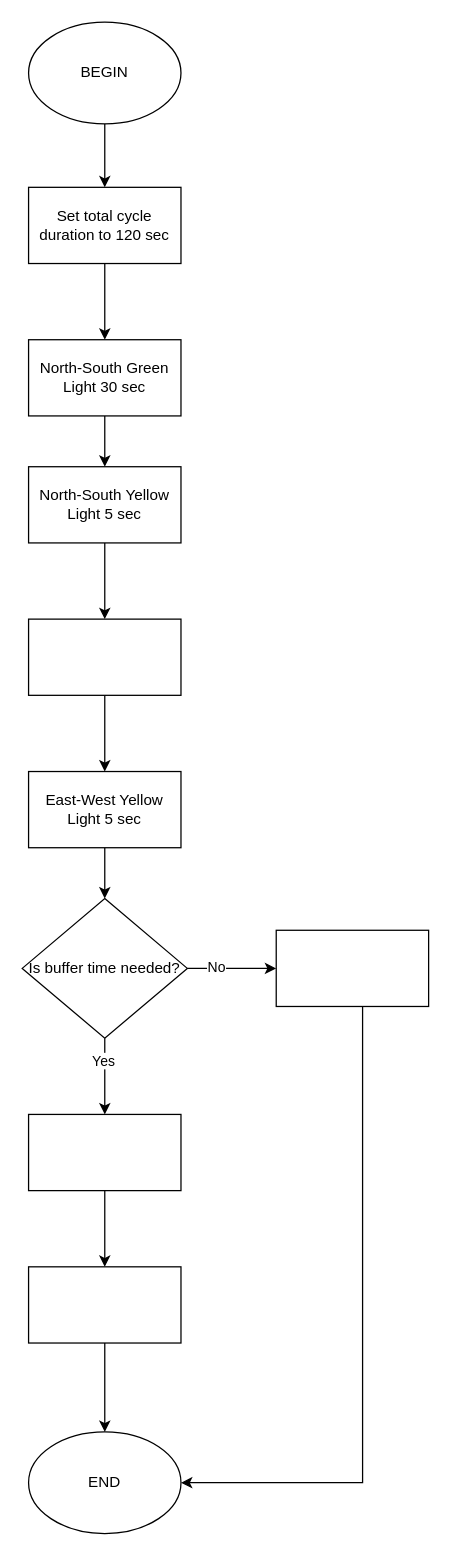
The diagram is 451 pixels wide and 1556 high, and some of its shapes have lost their labels. Each missing label, with the centre of its shape:
"Buffer Time 30 sec" belongs at point (104, 1152).
"East-West Green Light 30 sec" belongs at point (104, 656).
"Reset Cycle" belongs at point (352, 967).
"Restart Cycle" belongs at point (104, 1304).
